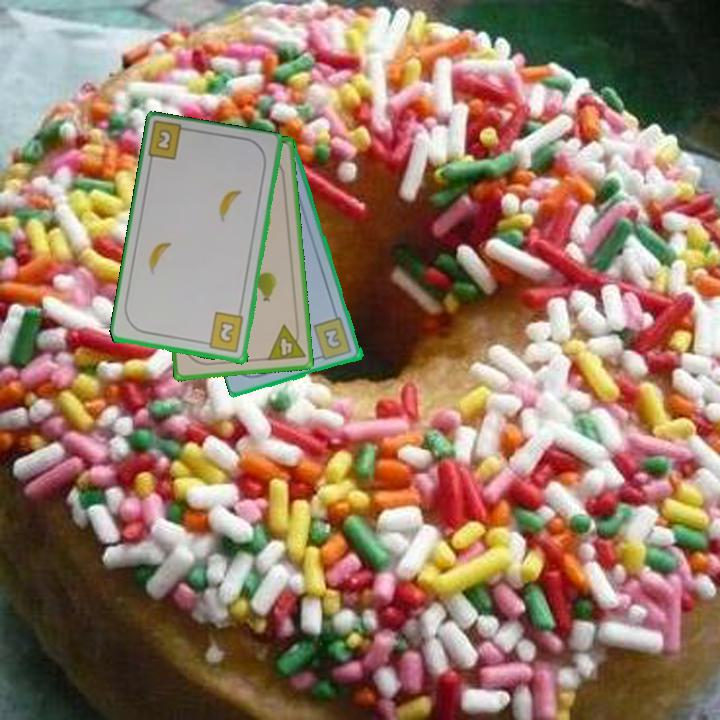2b: (200, 309, 247, 356), (310, 314, 355, 363), (152, 126, 175, 154)
4p: (263, 321, 308, 364)
